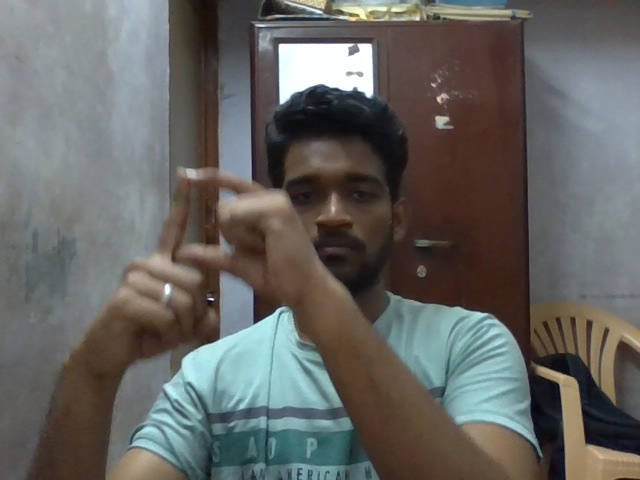D: (58, 157, 323, 387)
